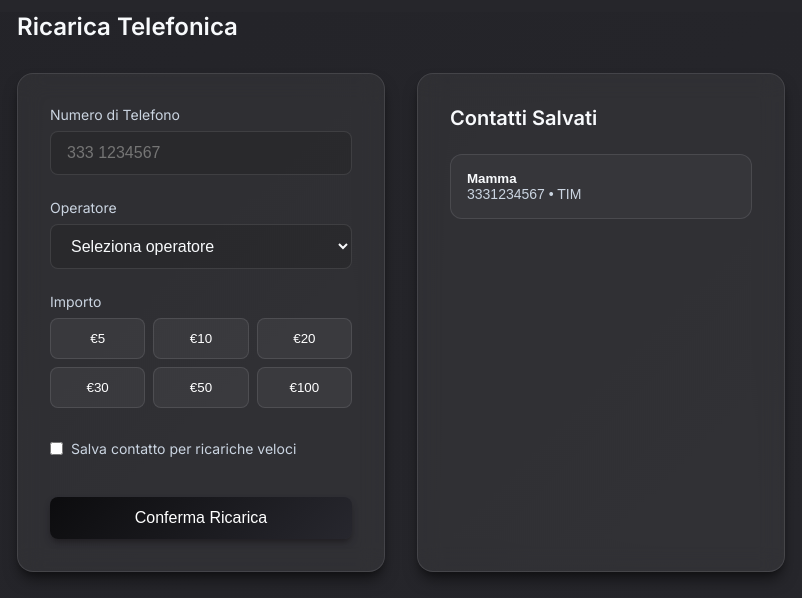
PhoneTopUp Page › selects a contact correctly
The image size is (802, 598).
Click the text "Mamma".
click(492, 178)  # box [467,171,517,186]
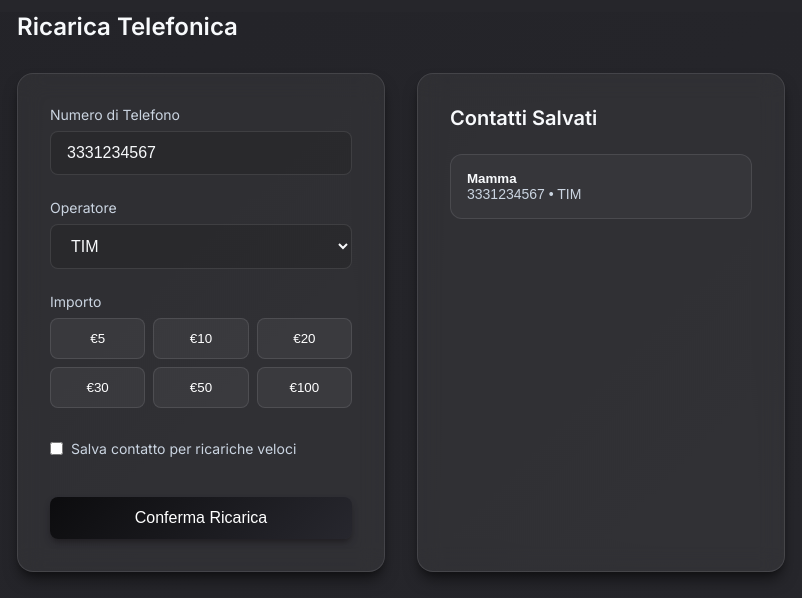
Check: the field labelled "Numero di Telefono" holds "3331234567", box [50,131,352,175]
Check: the dropdown labelled "Operatore" shows "TIM", box [50,224,352,269]
